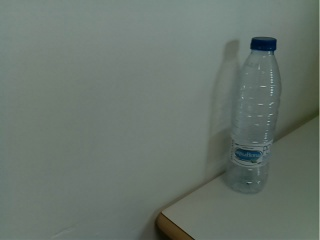botella plastico: (223, 34, 285, 196)
